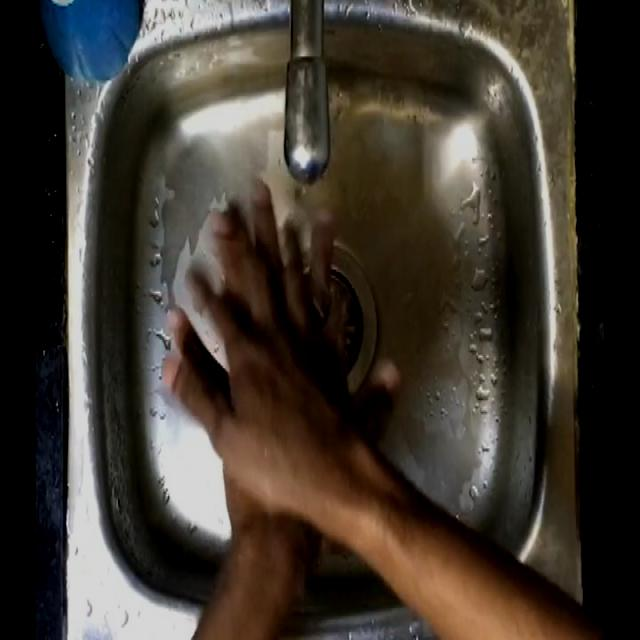step_2: (150, 167, 402, 500)
